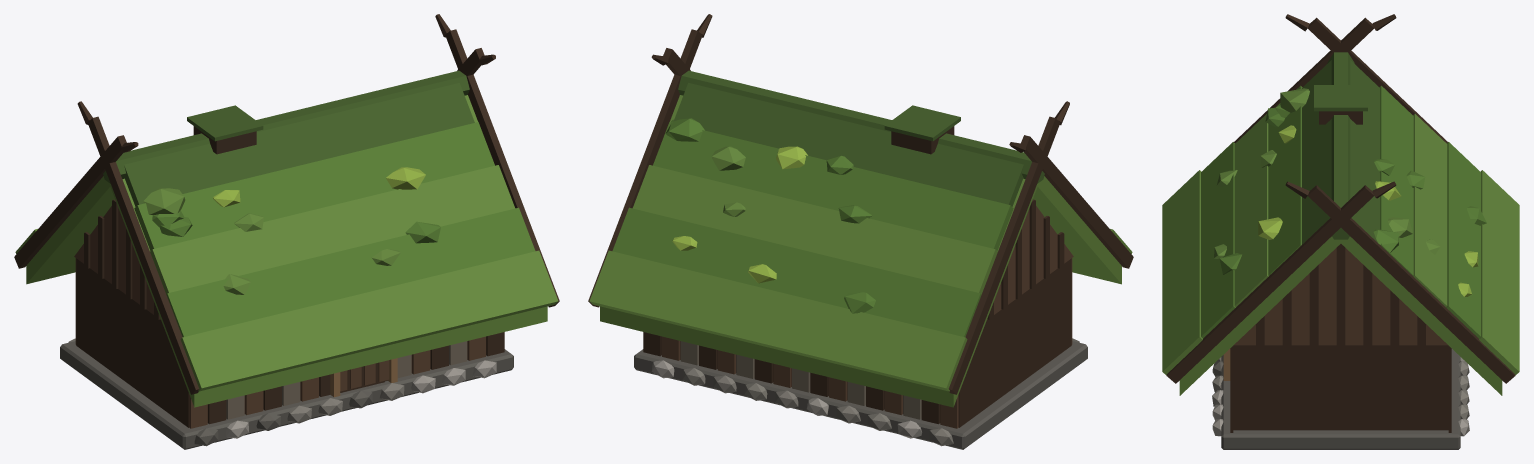
The model's file is forest_turfhouse.glb.
The picture shows the model from 3 angles, left to right: view 1: azimuth 30°, elevation 25°; view 2: azimuth 150°, elevation 25°; view 3: azimuth 270°, elevation 25°; orthographic projection. The views are drawn at different scales.
Visible parts, largest first — view 1: forest_turfhouse; view 2: forest_turfhouse; view 3: forest_turfhouse.
Part boxes in pixels (x1=…): forest_turfhouse: x1=14, y1=14, x2=559, y2=449; forest_turfhouse: x1=588, y1=14, x2=1133, y2=449; forest_turfhouse: x1=1162, y1=14, x2=1519, y2=449.
Bounding box in the file's own units: 8.29 × 6.22 × 7.3.
